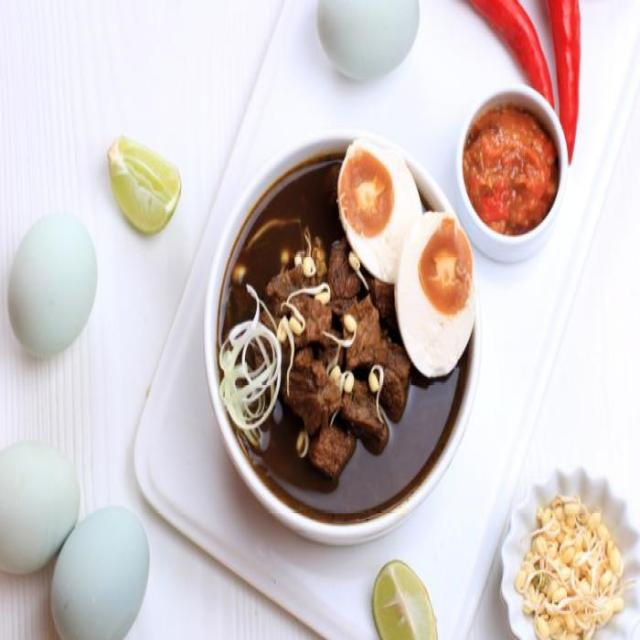Rawon: (213, 160, 466, 507)
